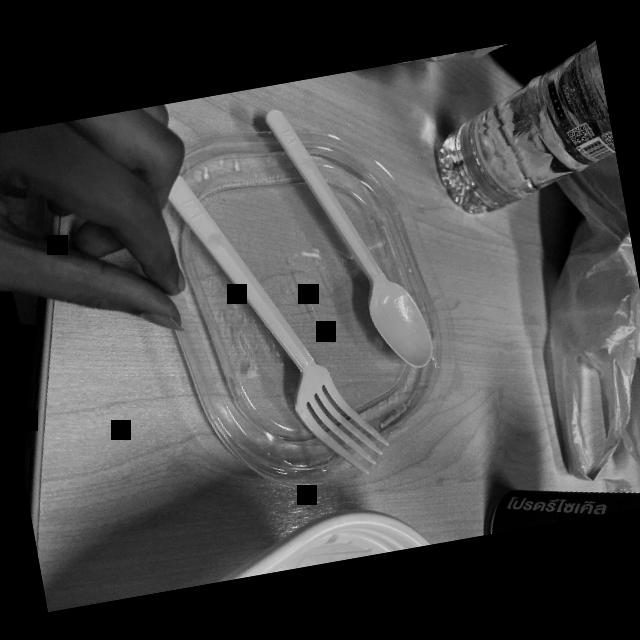plastic_spoon: (166, 139, 397, 496), (250, 75, 447, 392)
